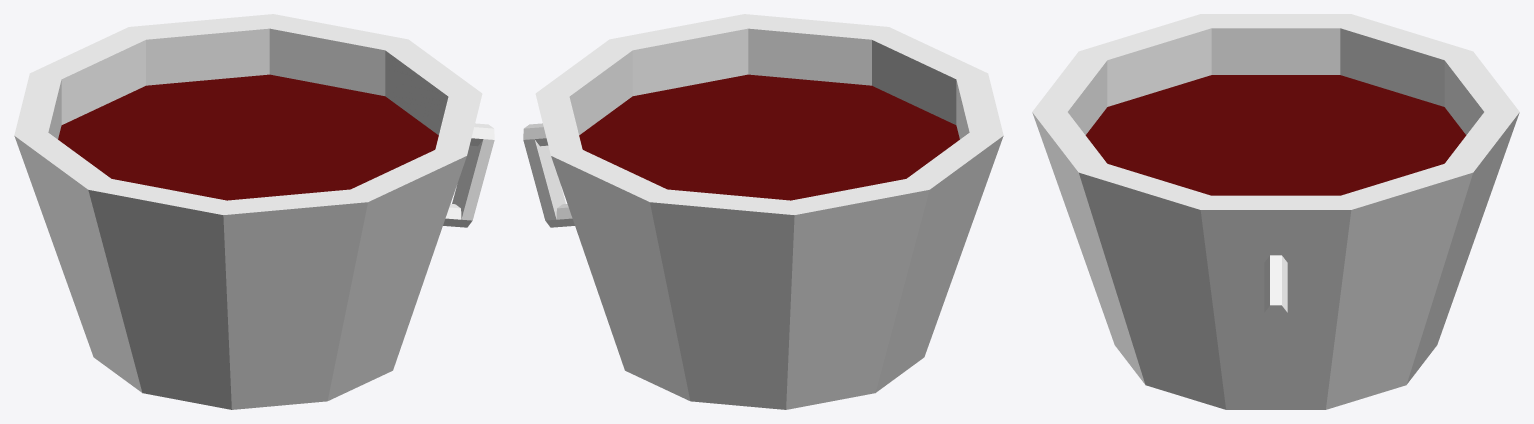
Rendered from Coffee Cup.fbx.
3 views of the same model, side by side, from view 1: azimuth 30°, elevation 25°; view 2: azimuth 150°, elevation 25°; view 3: azimuth 270°, elevation 25° (orthographic).
Visible parts, largest first — view 1: Model; view 2: Model; view 3: Model.
Part boxes in pixels (x1=…): Model: x1=14, y1=14, x2=494, y2=409; Model: x1=523, y1=14, x2=1003, y2=409; Model: x1=1032, y1=14, x2=1519, y2=409.
Bounding box in the file's own units: 66.42 × 33 × 62.56.
